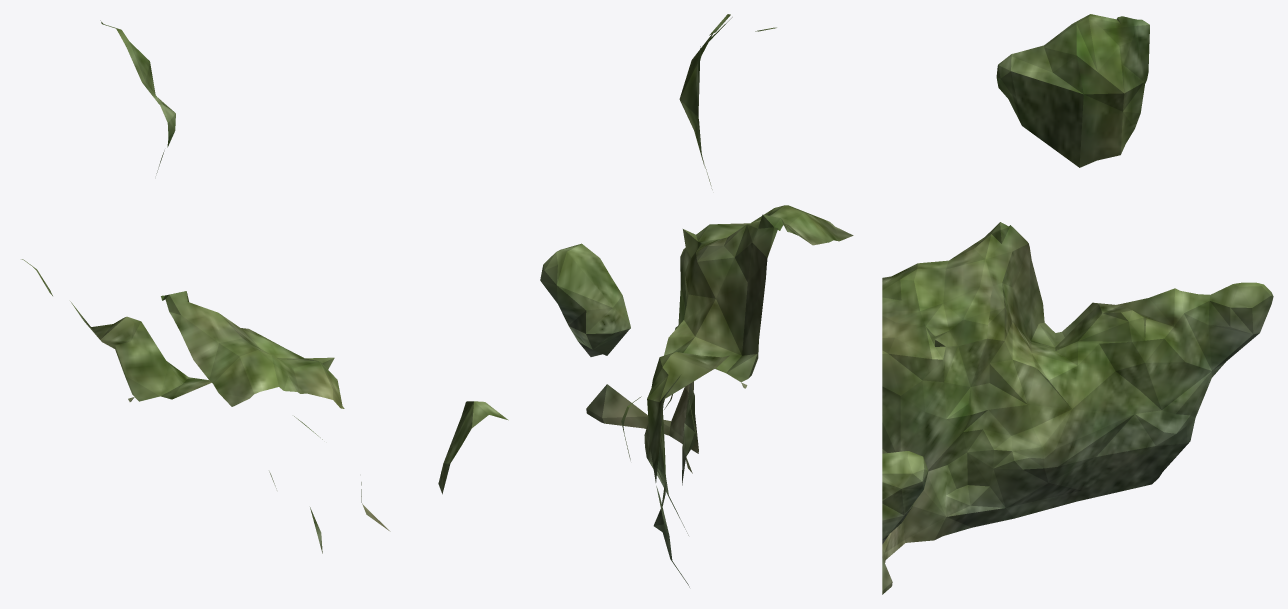
3 views of the same model, side by side, from view 1: azimuth 30°, elevation 25°; view 2: azimuth 150°, elevation 25°; view 3: azimuth 270°, elevation 25° (orthographic). The views are drawn at different scales.
Size of the model in its own units: 1.03 by 1.84 by 1.38.
1 material, 1 textured.
